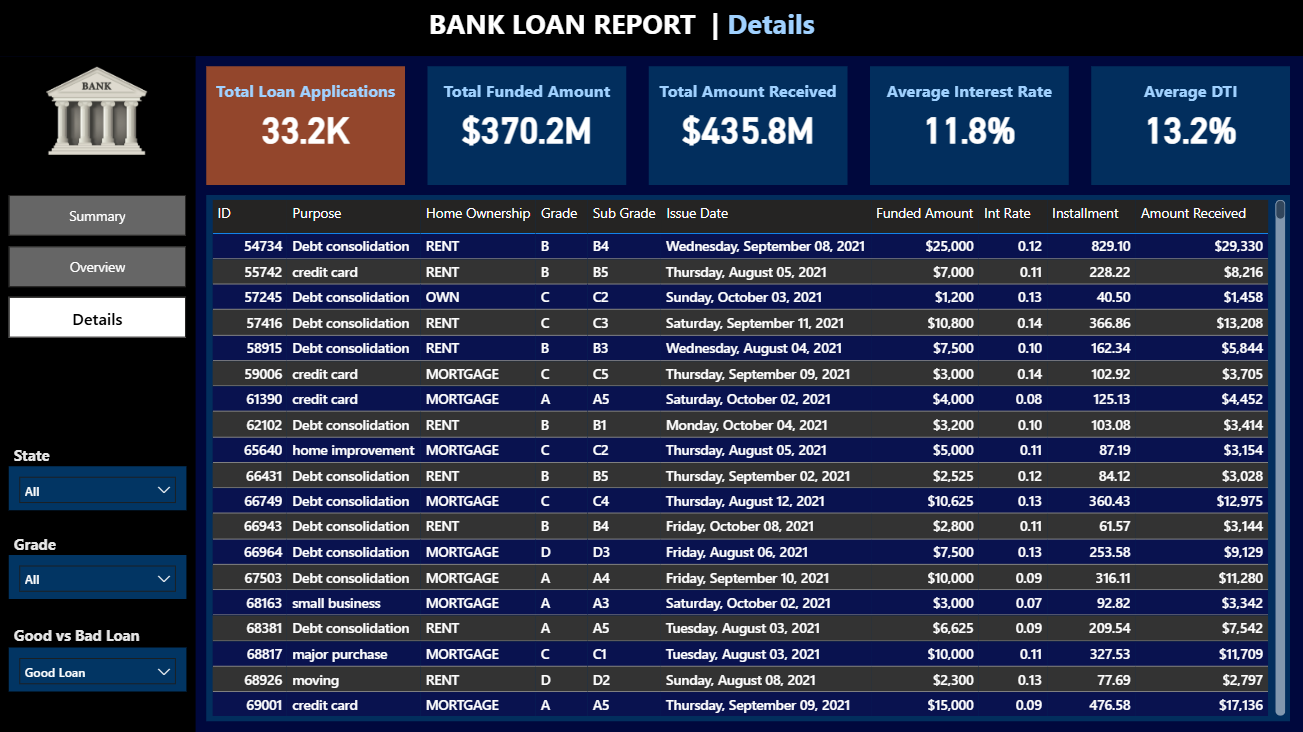

Layout of this report page (visuals, bound fields, positions):
{"tool":"powerbi","page":{"name":"Details","canvas":[1280,720],"ordinal":2},"visuals":[{"type":"shape","box":[202.5,65,195.1,116.6],"z":0,"group":"g1"},{"type":"shape","box":[419.6,65,195.1,116.6],"z":0,"group":"g2"},{"type":"shape","box":[636.8,65,195.1,116.6],"z":0,"group":"g3"},{"type":"shape","box":[854,65,195.1,116.6],"z":0,"group":"g4"},{"type":"shape","box":[1071.2,65,195.1,116.6],"z":0,"group":"g5"},{"type":"shape","box":[202.5,191.4,1063.8,516.6],"z":0},{"type":"shape","box":[0,0,1280.3,55],"z":1000},{"type":"card","fields":{"Values":["bank_loans bank_loan_data.Total Loan Applications"]},"box":[202.5,96.9,195.1,56.4],"z":1000,"group":"g1"},{"type":"card","fields":{"Values":["bank_loans bank_loan_data.Total Funded Amount"]},"box":[419.6,96.9,195.1,56.4],"z":1000,"group":"g2"},{"type":"card","fields":{"Values":["bank_loans bank_loan_data.Total Amount Received"]},"box":[636.8,96.9,195.1,56.4],"z":1000,"group":"g3"},{"type":"card","fields":{"Values":["bank_loans bank_loan_data.Avg Interest Rate"]},"box":[854,96.9,195.1,56.4],"z":1000,"group":"g4"},{"type":"card","fields":{"Values":["bank_loans bank_loan_data.Avg DTI"]},"box":[1071.2,96.9,195.1,56.4],"z":1000,"group":"g5"},{"type":"shape","box":[0,55.2,192,665],"z":2000},{"type":"textbox","box":[202.5,72.4,195.1,35.6],"z":2000,"group":"g1"},{"type":"textbox","box":[419.6,72.4,195.1,35.6],"z":2000,"group":"g2"},{"type":"textbox","box":[636.8,72.4,195.1,35.6],"z":2000,"group":"g3"},{"type":"textbox","box":[854,72.4,195.1,35.6],"z":2000,"group":"g4"},{"type":"textbox","box":[1071.2,72.4,195.1,35.6],"z":2000,"group":"g5"},{"type":"textbox","box":[416,0,449.1,55.2],"z":3000},{"type":"group","id":"g1","title":"Group 1","box":[202.5,65,195.1,116.6],"z":4000},{"type":"group","id":"g2","title":"Group 1","box":[419.6,65,195.1,116.6],"z":5000},{"type":"group","id":"g3","title":"Group 1","box":[636.8,65,195.1,116.6],"z":6000},{"type":"group","id":"g4","title":"Group 1","box":[854,65,195.1,116.6],"z":7000},{"type":"group","id":"g5","title":"Group 1","box":[1071.2,65,195.1,116.6],"z":8000},{"type":"slicer","fields":{"Values":["bank_loans bank_loan_data.address_state"]},"box":[8.6,457.7,174.2,42.9],"z":9000},{"type":"textbox","box":[8.6,431.9,174.2,35.6],"z":10000},{"type":"slicer","fields":{"Values":["bank_loans bank_loan_data.grade"]},"box":[8.6,544.8,174.2,42.9],"z":11000},{"type":"slicer","fields":{"Values":["bank_loans bank_loan_data.Good vs Bad Loan"]},"box":[8.6,635.6,174.2,42.9],"z":12000},{"type":"textbox","box":[8.6,519,174.2,35.6],"z":13000},{"type":"textbox","box":[8.6,608.6,174.2,35.6],"z":14000},{"type":"tableEx","fields":{"Values":["bank_loans bank_loan_data.id","bank_loans bank_loan_data.purpose","bank_loans bank_loan_data.home_ownership","bank_loans bank_loan_data.grade","bank_loans bank_loan_data.sub_grade","bank_loans bank_loan_data.issue_date","bank_loans bank_loan_data.Total Funded Amount","Sum(bank_loans bank_loan_data.int_rate)","Sum(bank_loans bank_loan_data.installment)","bank_loans bank_loan_data.Total Amount Received"]},"box":[202.5,191.4,1063.8,516.6],"z":17001},{"type":"pageNavigator","box":[8.6,191.4,174.2,141.1],"z":17002},{"type":"image","box":[40.5,55.2,109.2,108],"z":17003}]}

Visuals, with their boxes in screenshot pixels (x1, y1, x2, y2), scaled from the page's 1280x720 canvas onto the 1303x732 screenshot:
shape: bbox(206, 66, 405, 185)
shape: bbox(427, 66, 626, 185)
shape: bbox(648, 66, 847, 185)
shape: bbox(869, 66, 1068, 185)
shape: bbox(1090, 66, 1289, 185)
shape: bbox(206, 195, 1289, 720)
shape: bbox(0, 0, 1302, 56)
card - bank_loans bank_loan_data.Total Loan Applications: bbox(206, 99, 405, 156)
card - bank_loans bank_loan_data.Total Funded Amount: bbox(427, 99, 626, 156)
card - bank_loans bank_loan_data.Total Amount Received: bbox(648, 99, 847, 156)
card - bank_loans bank_loan_data.Avg Interest Rate: bbox(869, 99, 1068, 156)
card - bank_loans bank_loan_data.Avg DTI: bbox(1090, 99, 1289, 156)
shape: bbox(0, 56, 195, 731)
textbox: bbox(206, 74, 405, 110)
textbox: bbox(427, 74, 626, 110)
textbox: bbox(648, 74, 847, 110)
textbox: bbox(869, 74, 1068, 110)
textbox: bbox(1090, 74, 1289, 110)
textbox: bbox(423, 0, 881, 56)
"Group 1" group: bbox(206, 66, 405, 185)
"Group 1" group: bbox(427, 66, 626, 185)
"Group 1" group: bbox(648, 66, 847, 185)
"Group 1" group: bbox(869, 66, 1068, 185)
"Group 1" group: bbox(1090, 66, 1289, 185)
slicer - bank_loans bank_loan_data.address_state: bbox(9, 465, 186, 509)
textbox: bbox(9, 439, 186, 475)
slicer - bank_loans bank_loan_data.grade: bbox(9, 554, 186, 597)
slicer - bank_loans bank_loan_data.Good vs Bad Loan: bbox(9, 646, 186, 690)
textbox: bbox(9, 528, 186, 564)
textbox: bbox(9, 619, 186, 655)
tableEx - bank_loans bank_loan_data.id x bank_loans bank_loan_data.purpose: bbox(206, 195, 1289, 720)
pageNavigator: bbox(9, 195, 186, 338)
image: bbox(41, 56, 152, 166)
